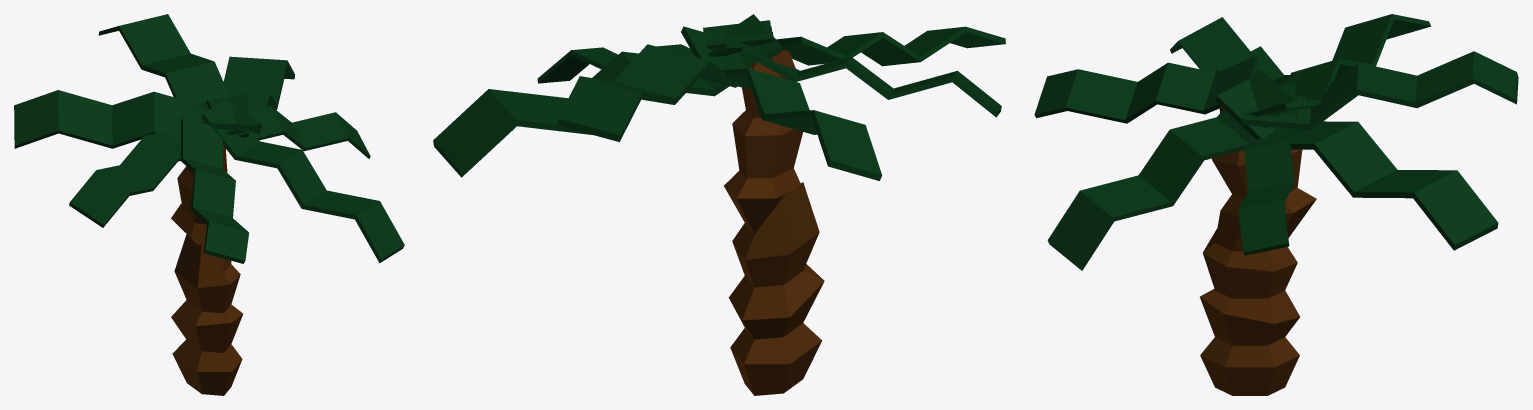
The model's file is PalmTree3.fbx.
3 views of the same model, side by side, from view 1: azimuth 30°, elevation 25°; view 2: azimuth 150°, elevation 25°; view 3: azimuth 270°, elevation 25° (orthographic). The views are drawn at different scales.
Visible parts, largest first — view 1: Trunk, Leaf.003, Leaf.004, Leaf.006, Leaf.007, Leaf.002, Leaf.001, Leaf; view 2: Trunk, Leaf.002, Leaf.001, Leaf.003, Leaf.006, Leaf.007, Leaf, Leaf.004; view 3: Trunk, Leaf.004, Leaf.001, Leaf.006, Leaf.002, Leaf, Leaf.003, Leaf.007.
Boxes of the visible parts, x1,y1,x2,y2 form: Trunk: (171,141,242,395); Leaf.003: (14,90,248,148); Leaf.004: (201,99,404,263); Leaf.006: (181,118,248,263); Leaf.007: (69,101,225,227); Leaf.002: (98,14,261,134); Leaf.001: (198,56,294,133); Leaf: (206,100,370,158); Trunk: (724,50,824,395); Leaf.002: (557,31,751,141); Leaf.001: (433,14,781,177); Leaf.003: (681,26,882,180); Leaf.006: (776,26,1005,66); Leaf.007: (741,44,1001,117); Leaf: (537,42,752,83); Leaf.004: (703,20,773,49); Trunk: (1200,106,1316,395); Leaf.004: (1047,69,1292,270); Leaf.001: (1216,79,1498,250); Leaf.006: (1034,56,1258,123); Leaf.002: (1241,51,1518,129); Leaf: (1238,83,1298,255); Leaf.003: (1248,14,1431,116); Leaf.007: (1170,17,1299,99).
Bounding box in the file's own units: 735 × 619 × 799.
